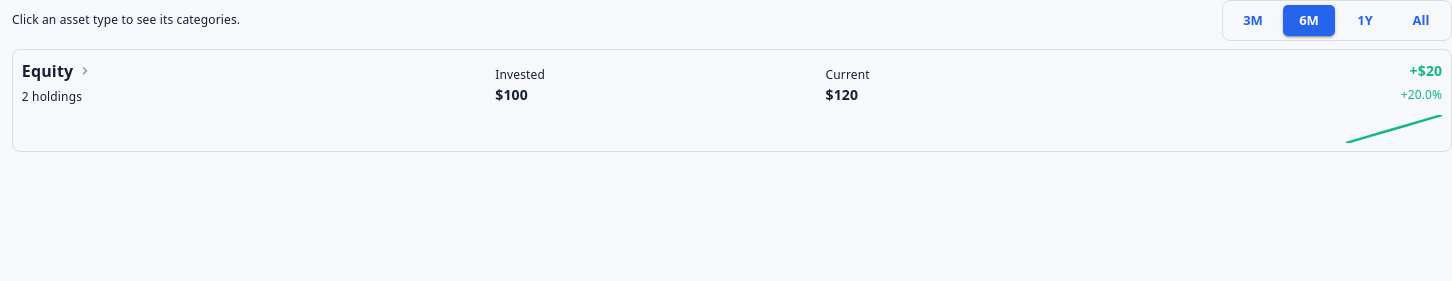
Test: CategoryPerformanceTable › drills from asset type to category and back
This screenshot has width=1452, height=281.
Click the text "Equity".
click(48, 70)  # box [22, 58, 73, 82]
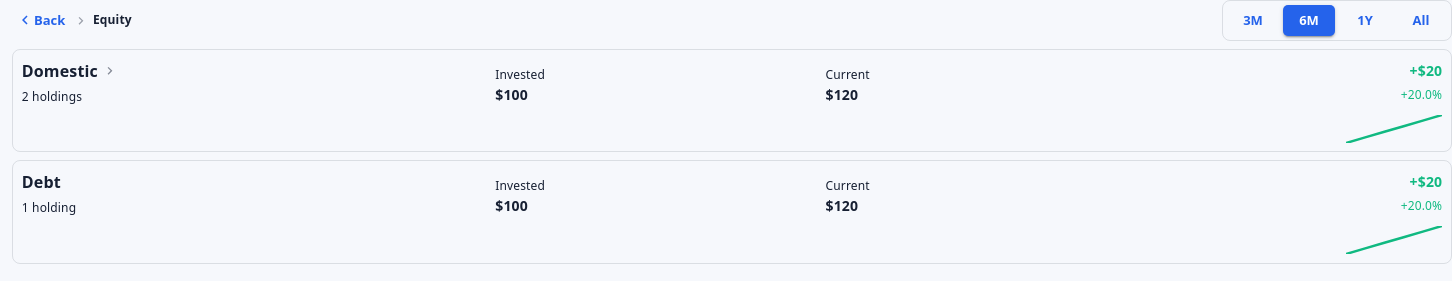
Expected: the text "Domestic" is shown
Expected: the text "Debt" is shown, [22, 170, 61, 194]
Click the text "Domestic".
click(60, 70)  # box [22, 58, 98, 82]
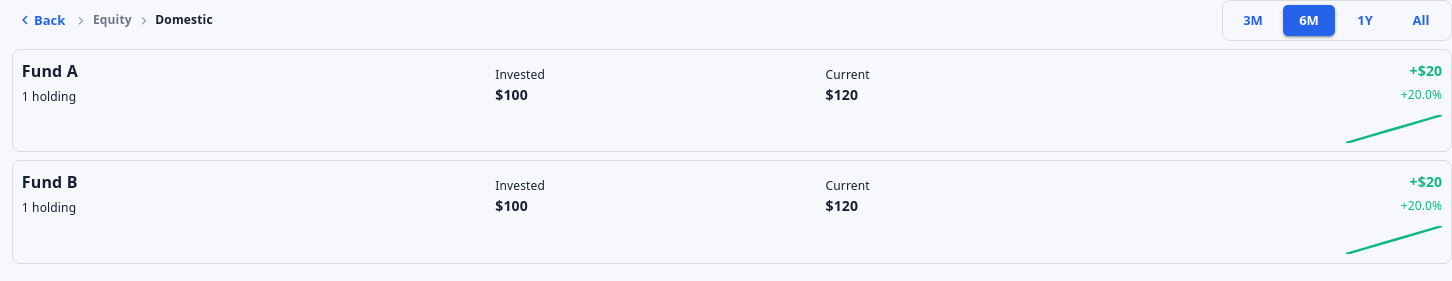
Expected: the text "Fund A" is shown, [22, 58, 78, 82]
Expected: the text "Fund B" is shown, [22, 170, 78, 194]
Expected: the text "Debt" is gone
Click the button "Back".
click(41, 20)  # box [12, 5, 69, 36]
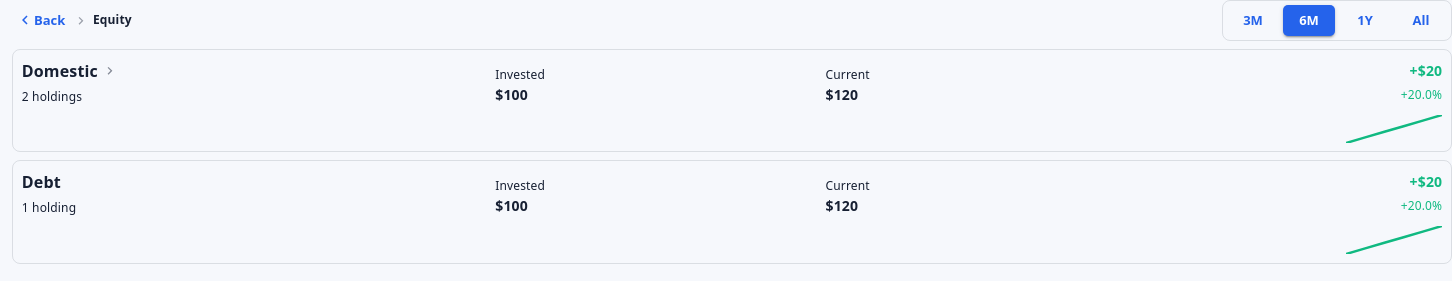
Expected: the text "Domestic" is shown, [22, 58, 98, 82]
